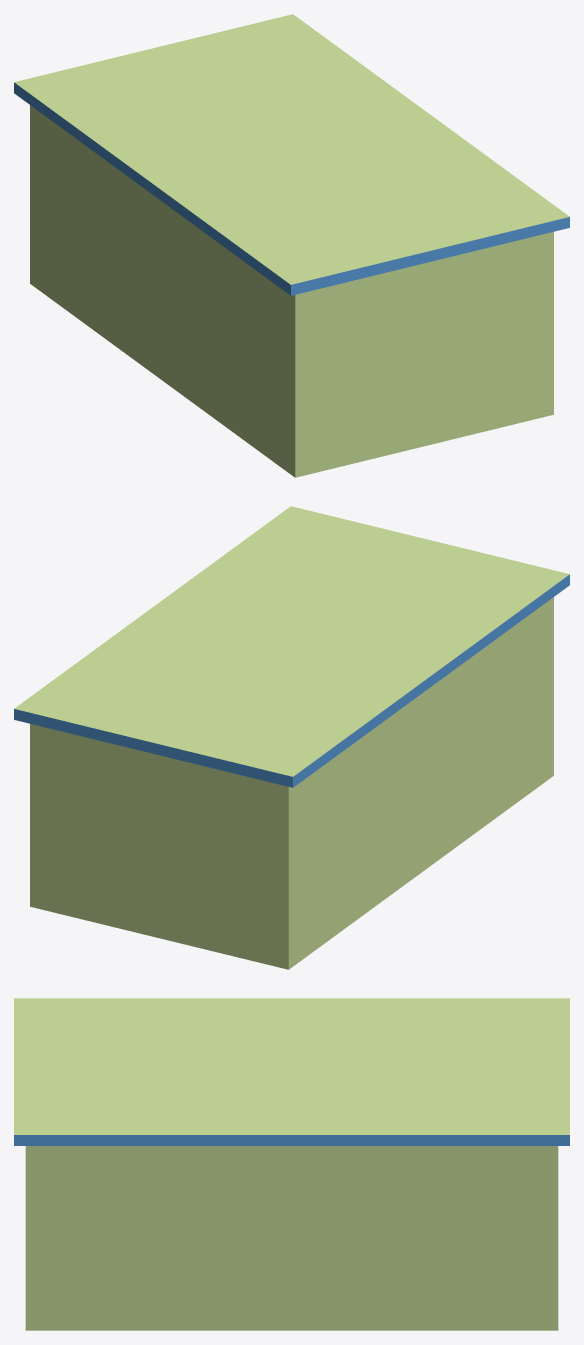
Rendered from Desk1.fbx.
3 renders of one model, top to bottom at view 1: azimuth 30°, elevation 25°; view 2: azimuth 150°, elevation 25°; view 3: azimuth 270°, elevation 25°, orthographic.
Parts seen in each view (by area): view 1: Desk1; view 2: Desk1; view 3: Desk1.
Part boxes in pixels (x1,y1,x2,y2): Desk1: [14, 14, 569, 477]; Desk1: [14, 506, 569, 969]; Desk1: [14, 998, 569, 1330].
Bounding box in the file's own units: 1.29 × 0.8825 × 2.22.
